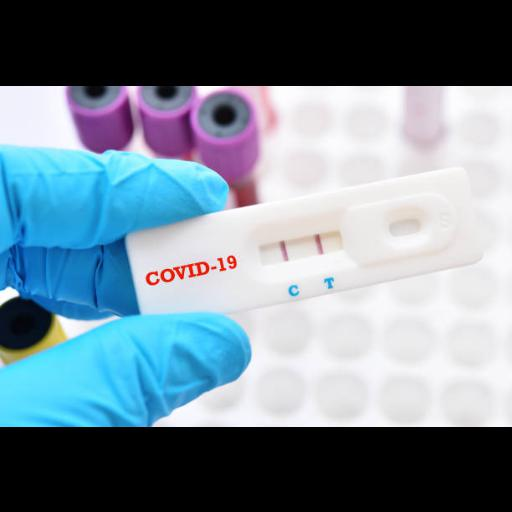Pos: (124, 165, 488, 326)
